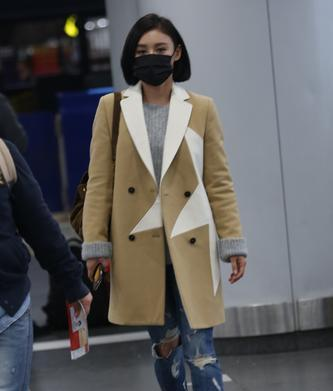OK: (133, 39, 176, 87)
